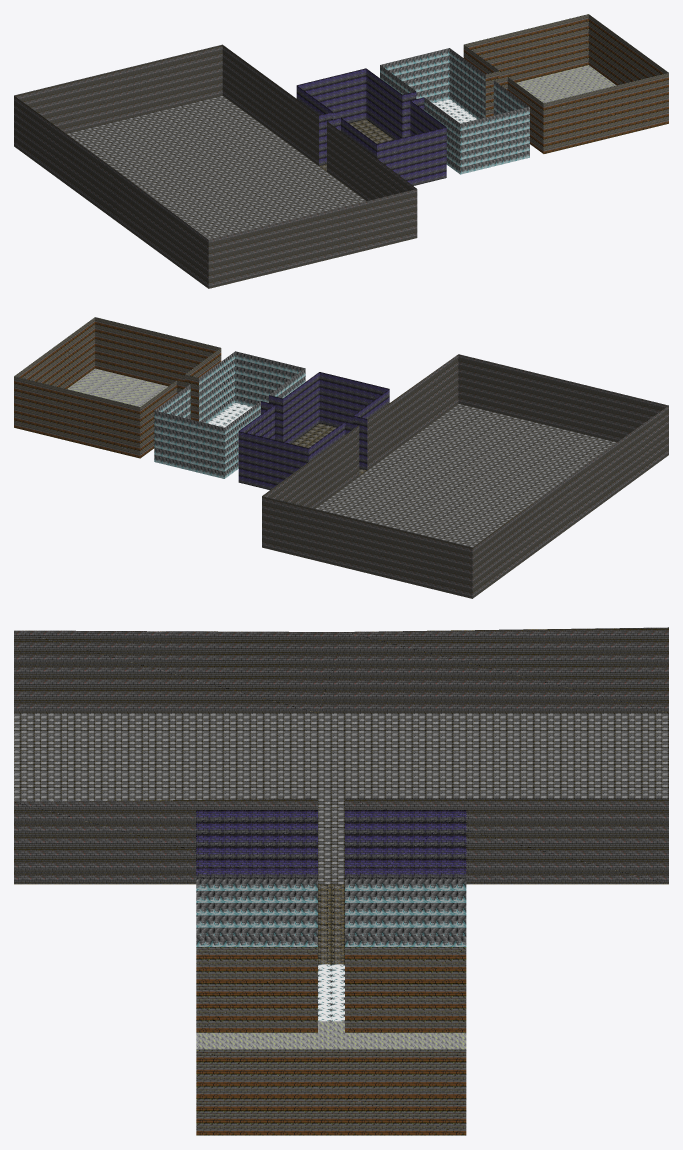
Rendered from Map.obj.
3 views of the same model, one above another, from view 1: azimuth 30°, elevation 25°; view 2: azimuth 150°, elevation 25°; view 3: azimuth 270°, elevation 25° (orthographic). The views are drawn at different scales.
Visible parts, largest first — view 1: Cube, Cube-detach; view 2: Cube, Cube-detach; view 3: Cube, Cube-detach.
Part boxes in pixels (x1=…): Cube: x1=14, y1=14, x2=668, y2=288; Cube-detach: x1=66, y1=65, x2=616, y2=239; Cube: x1=14, y1=317, x2=668, y2=598; Cube-detach: x1=67, y1=368, x2=616, y2=547; Cube: x1=14, y1=627, x2=668, y2=1135; Cube-detach: x1=14, y1=713, x2=668, y2=1135.
Size of the model in its own units: 74 by 7 by 48.5.
